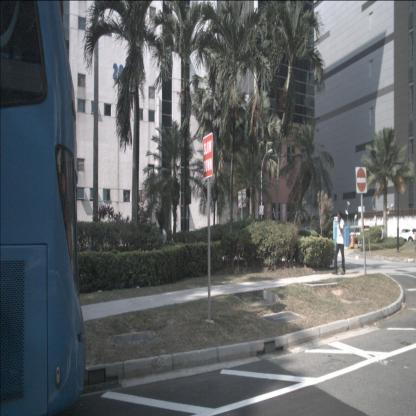human-pedestrian-adult: (332, 210, 346, 275)
vehicle-car: (395, 228, 415, 246)
